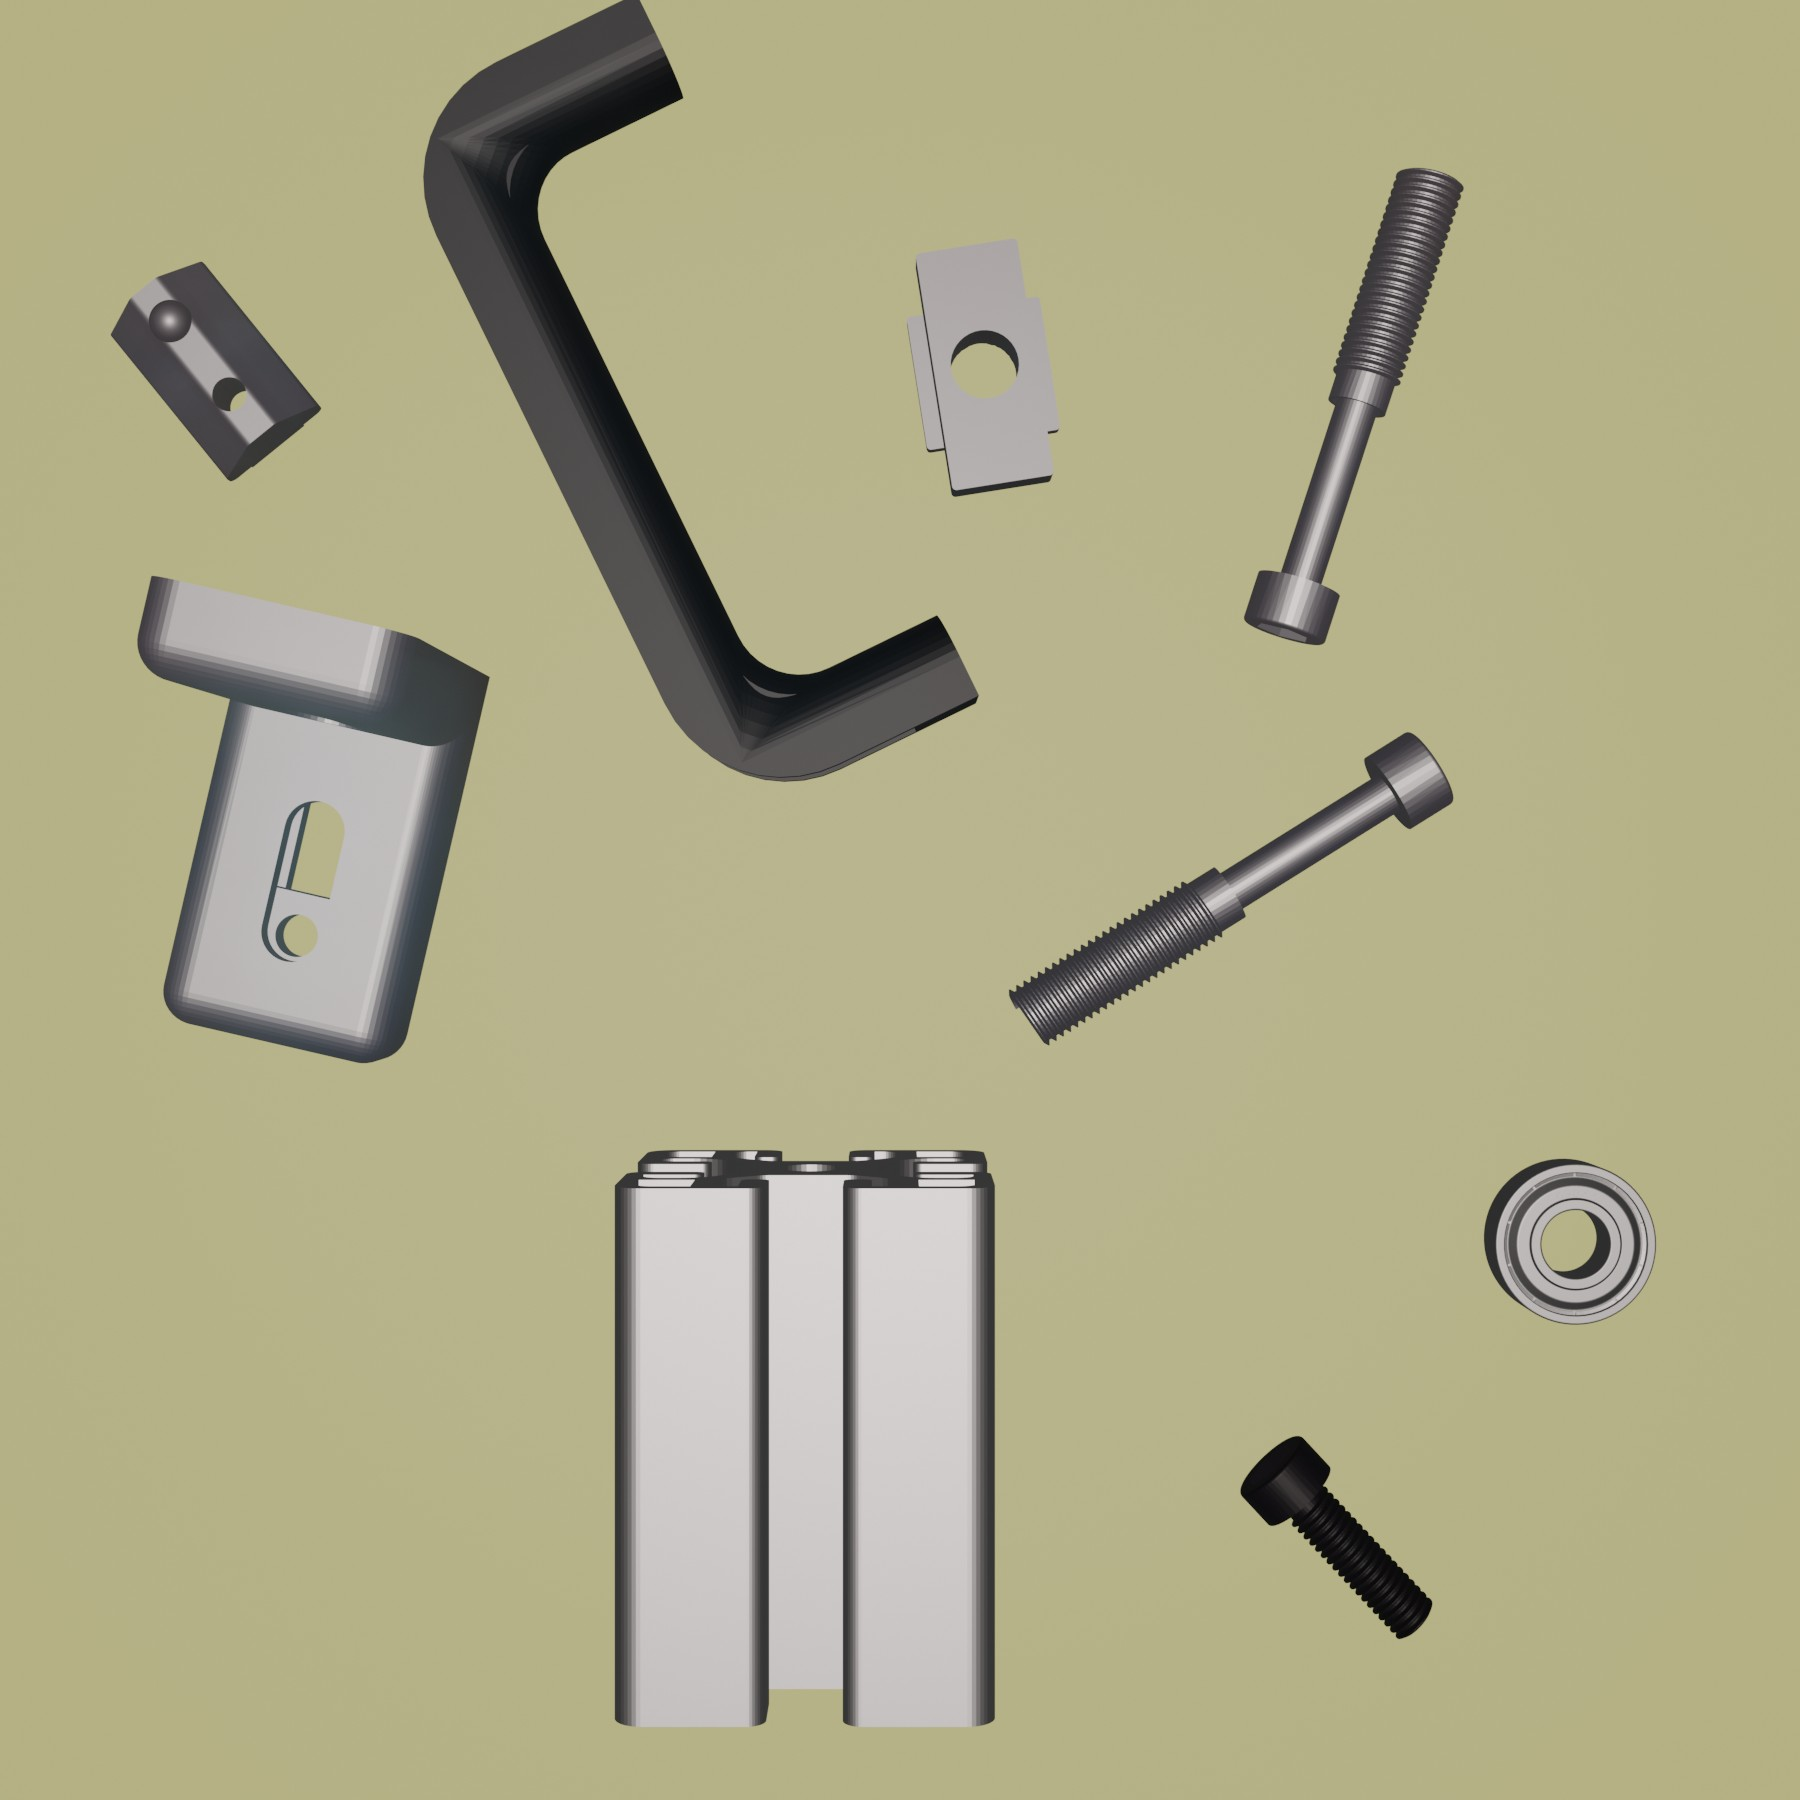Aluminium Extension: (605, 1139, 1001, 1734)
Ball Bearing: (1480, 1155, 1658, 1329)
Multiwinkel: (137, 572, 495, 1063)
Pull Handle: (420, 2, 981, 785)
Shoulder Socket Head Cap Screw: (1005, 730, 1455, 1050), (1240, 162, 1465, 648)
Socket Head Cap Screw: (1235, 1431, 1436, 1643)
T Nut Square: (900, 236, 1063, 499)
T Spring Nut: (109, 257, 321, 485)
